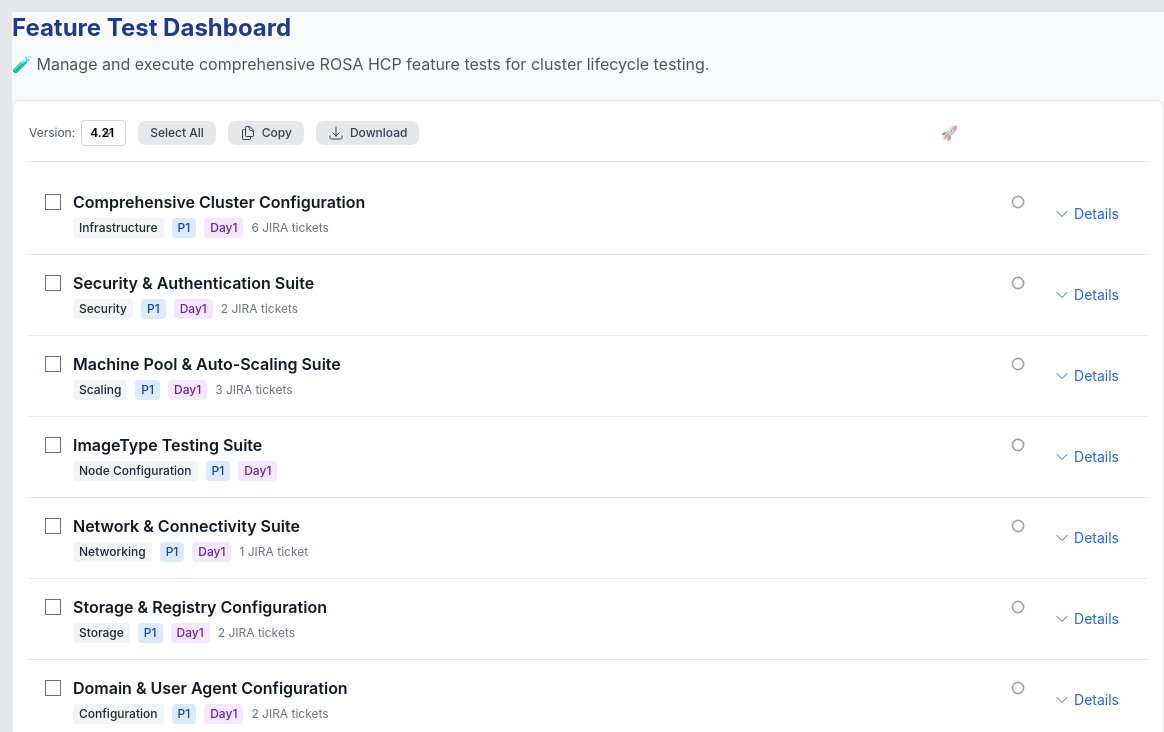
TestSuiteDashboard › displays component badges in expanded view
The image size is (1164, 732).
Click the button "Details" in the row of "Comprehensive Cluster Configuration".
click(1086, 214)  # box [1042,196,1131,232]
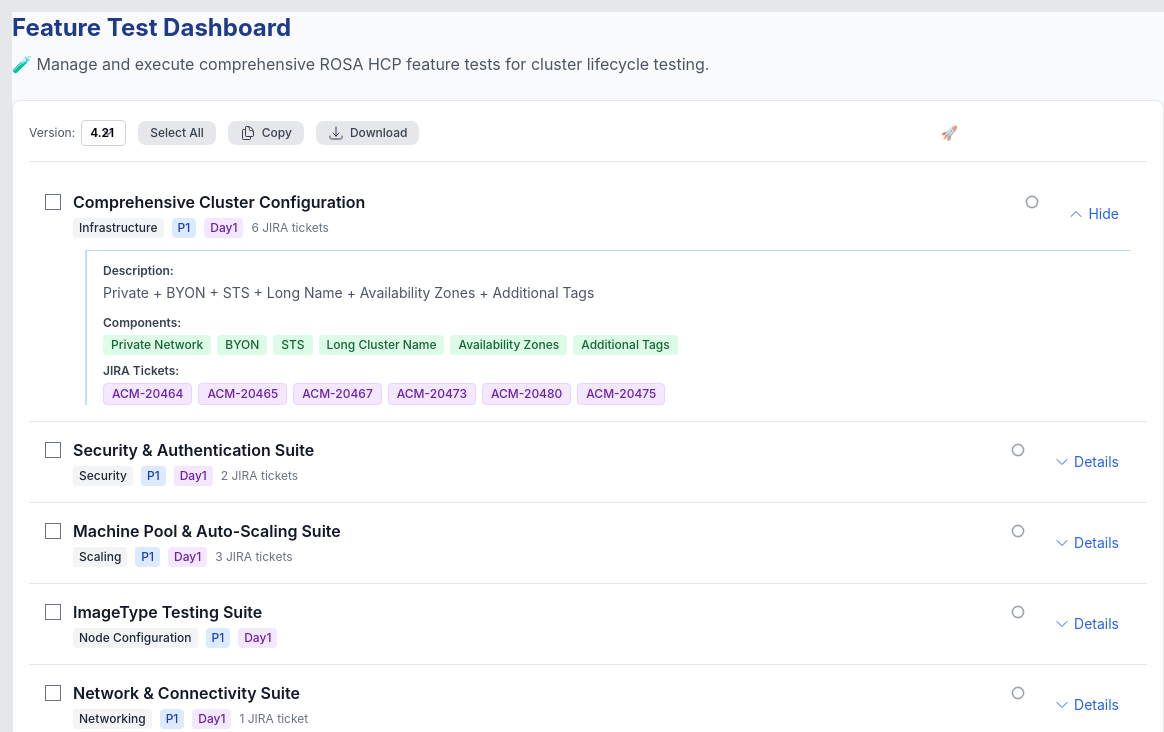
Expected: the text "Private Network" is shown, [103,335,211,355]
Expected: the text "BYON" is shown, [217,335,267,355]
Expected: the text "STS" is shown, [273,335,313,355]
